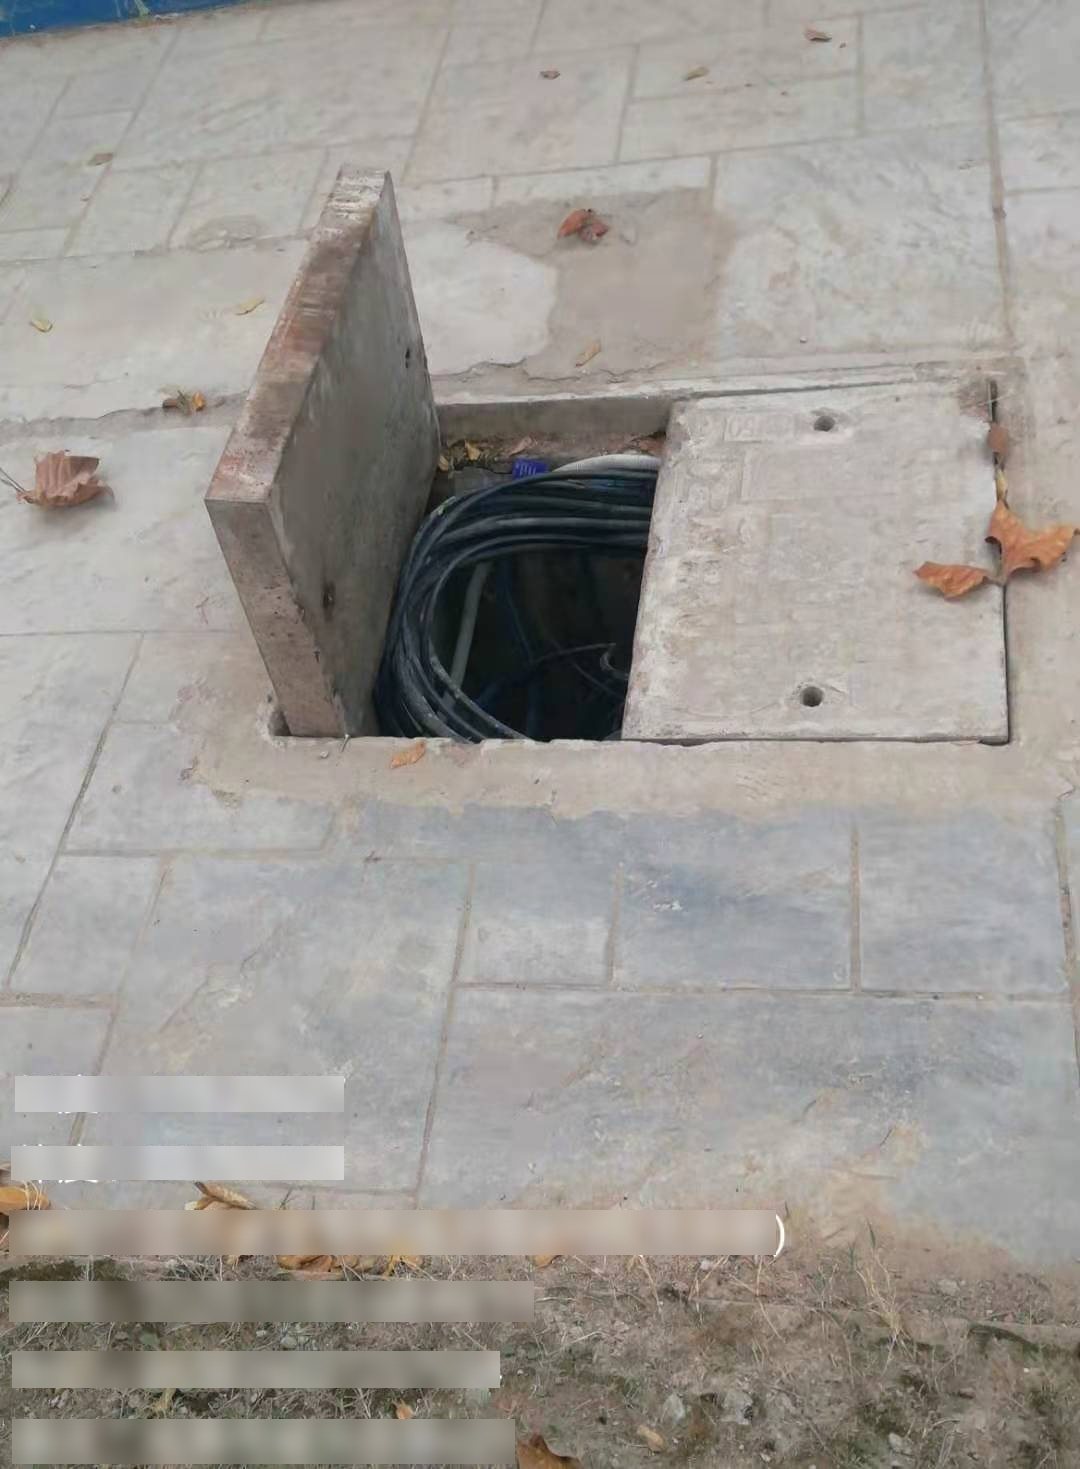uncovered: (213, 164, 1013, 744)
